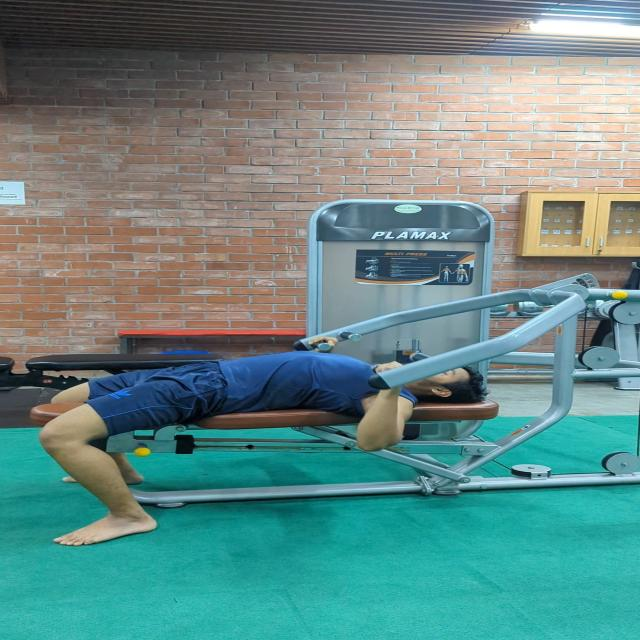Normal_BrenchPress: (28, 318, 584, 546)
